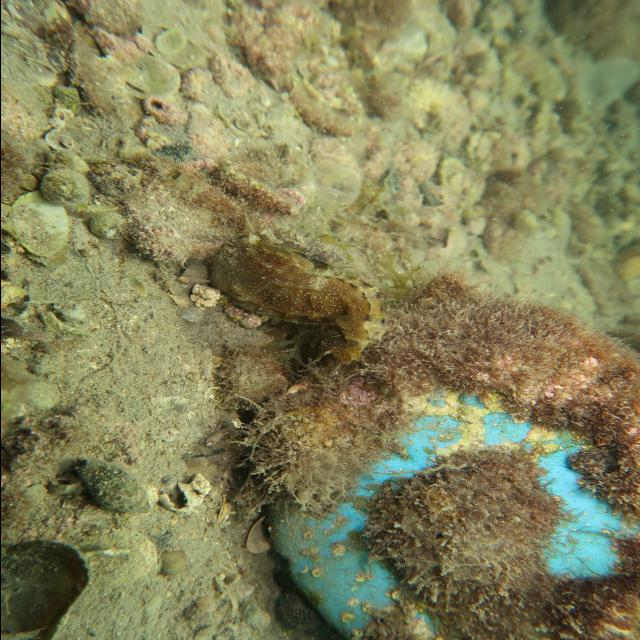Guttu: (262, 322, 388, 372)
